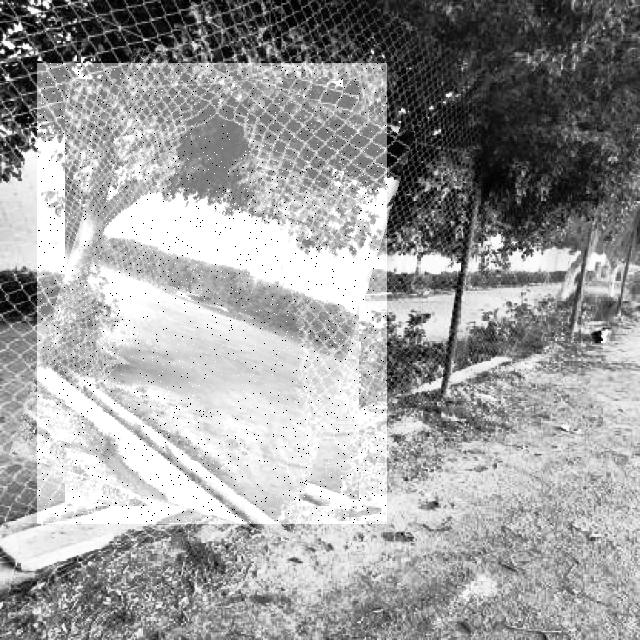anomaly-fence: (37, 63, 387, 524)
